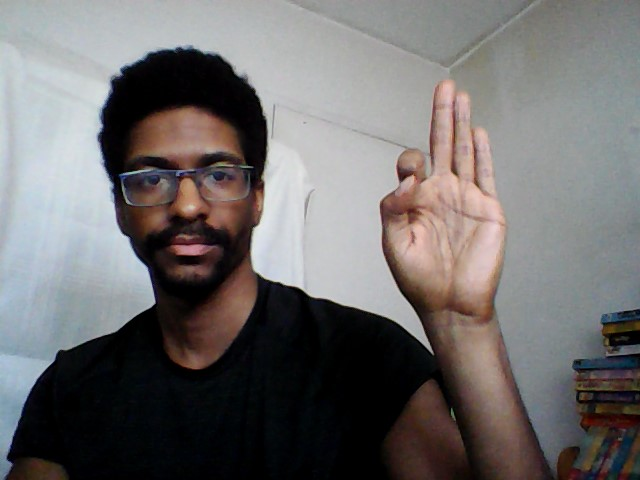f: (375, 73, 512, 324)
